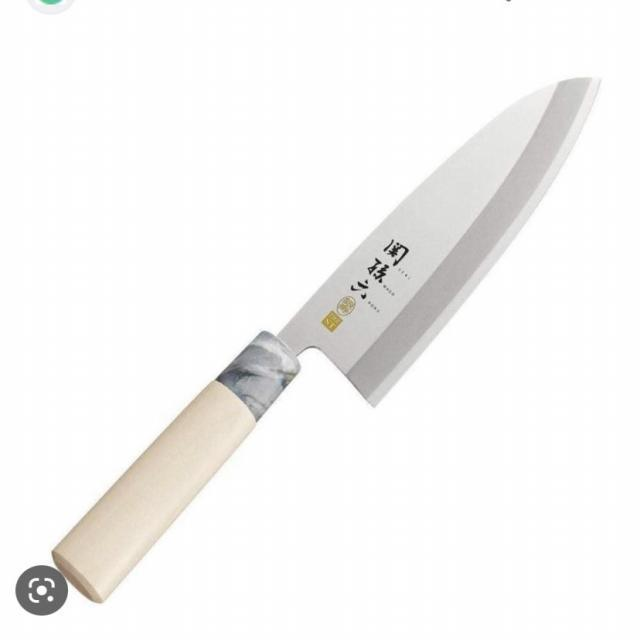Knife: (14, 50, 614, 619)
